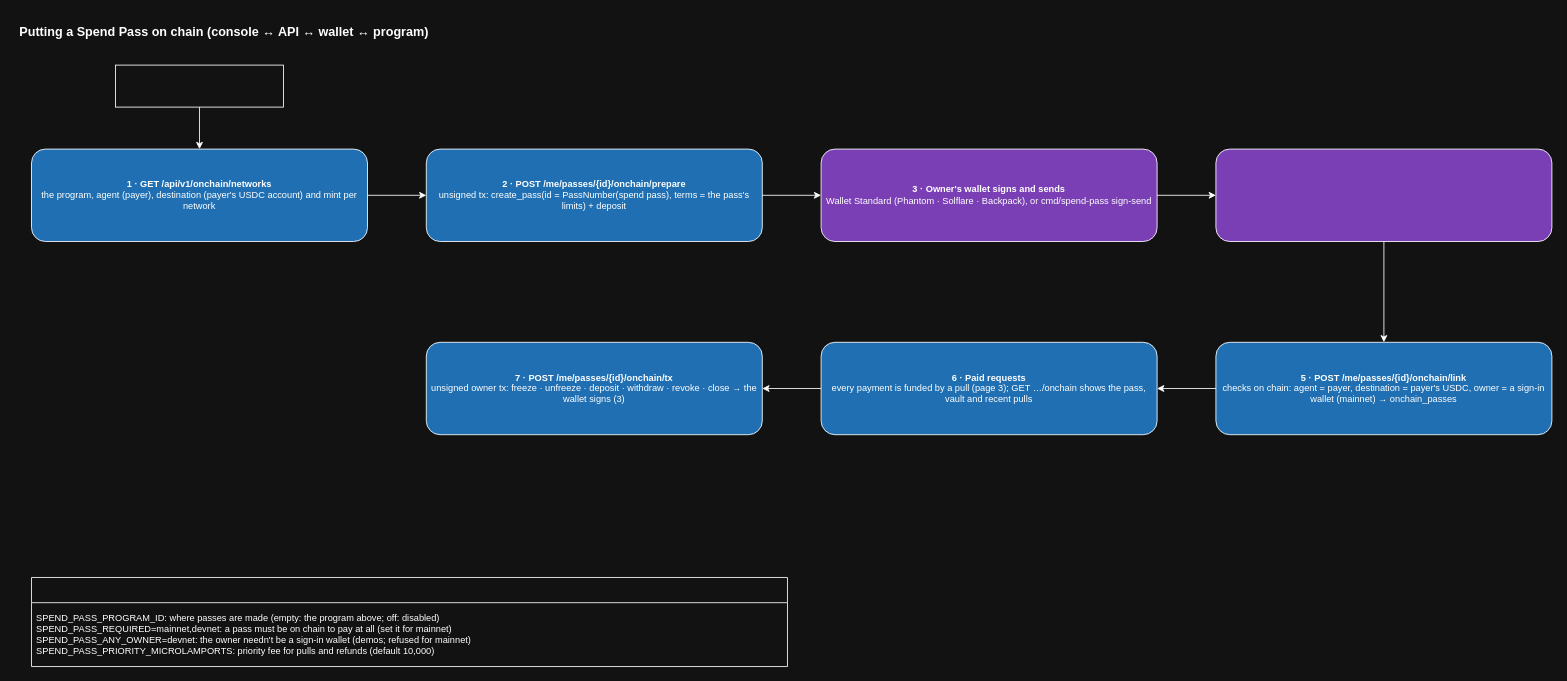
Some shapes in this 1567 by 681 pixel diagram are drawn without their labels. The shapes that lost their labels are listed below. From the top down, each one's box as (x1, y1, x2, y2) in pixels, then its label:
(115, 64, 284, 107): Person in the console
(1215, 148, 1552, 242): 4 · Spend Pass program Pass PDA + Vault ATA created; the owner's USDC deposited
(31, 577, 788, 667): Configuration
